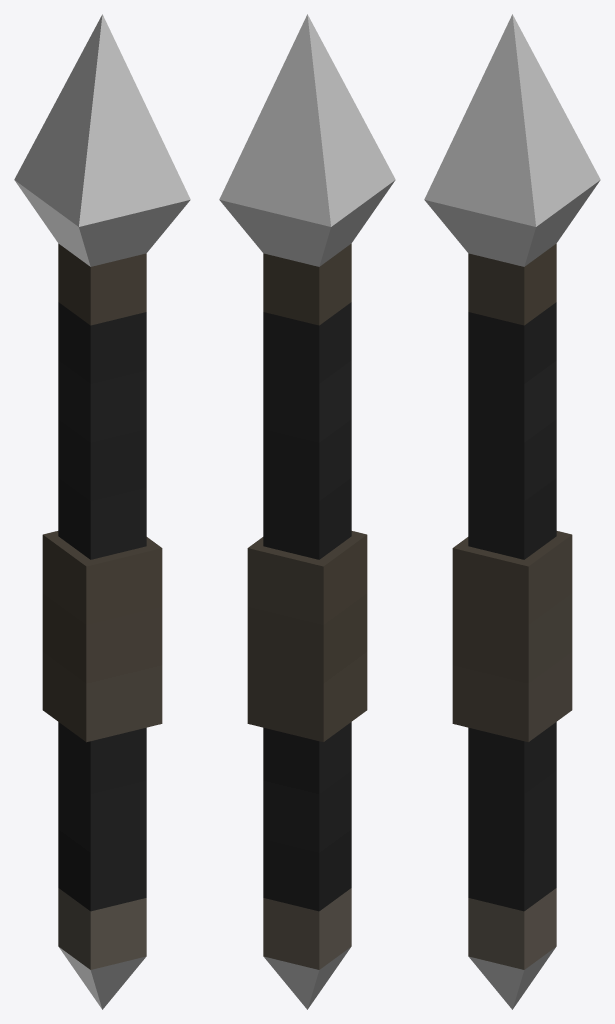
Rendered from manaweaving_advanced_linked.obj.
3 views of the same model, side by side, from view 1: azimuth 30°, elevation 25°; view 2: azimuth 150°, elevation 25°; view 3: azimuth 330°, elevation 25° (orthographic).
Visible parts, largest first — view 1: WAND_ADVANCED_Cube.007; view 2: WAND_ADVANCED_Cube.007; view 3: WAND_ADVANCED_Cube.007.
Part boxes in pixels (<box>): WAND_ADVANCED_Cube.007: <box>14,14,190,1009</box>; WAND_ADVANCED_Cube.007: <box>219,14,395,1009</box>; WAND_ADVANCED_Cube.007: <box>424,14,600,1009</box>.
Size of the model in its own units: 0.125 by 1.06 by 0.125.
